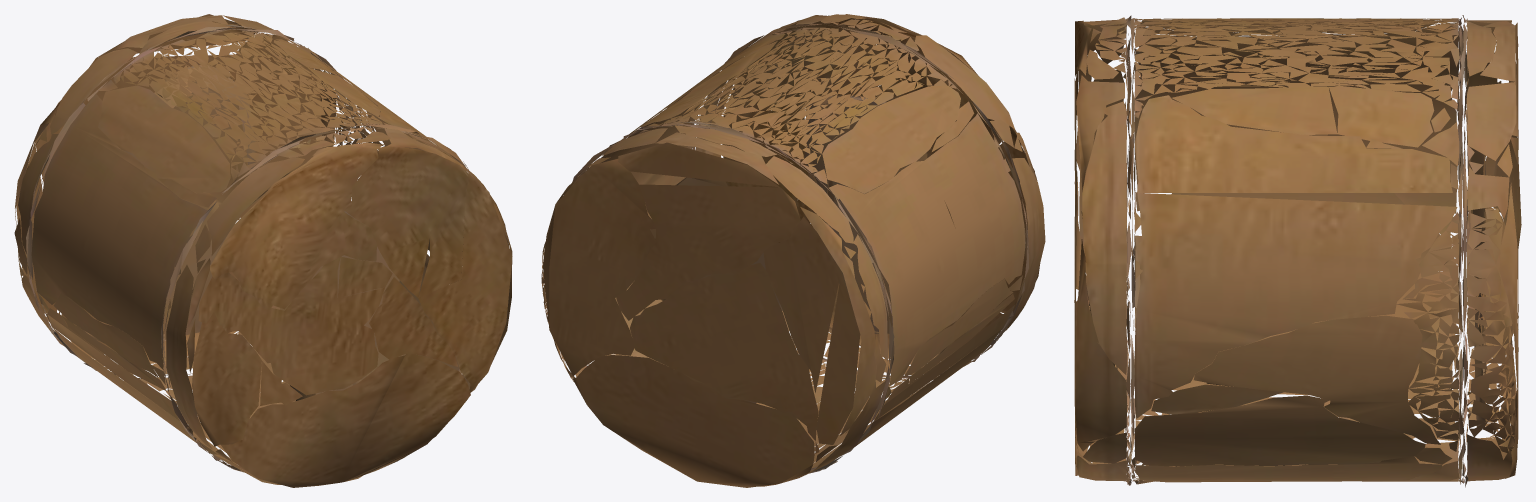
The model's file is obs_hay.glb.
3 renders of one model, left to right at view 1: azimuth 30°, elevation 25°; view 2: azimuth 150°, elevation 25°; view 3: azimuth 270°, elevation 25°, orthographic. The views are drawn at different scales.
Parts seen in each view (by area): view 1: material; view 2: material; view 3: material.
Part boxes in pixels (x1=…): material: x1=14, y1=14, x2=512, y2=487; material: x1=541, y1=14, x2=1045, y2=487; material: x1=1074, y1=15, x2=1521, y2=487.
Bounding box in the file's own units: 0.9087 × 0.8882 × 0.844.
Materials: 1 (1 with a texture image).
